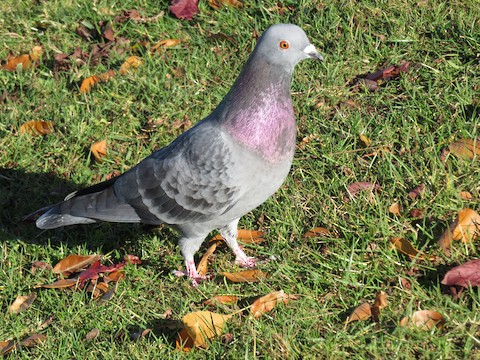pigeon: (31, 21, 330, 289)
